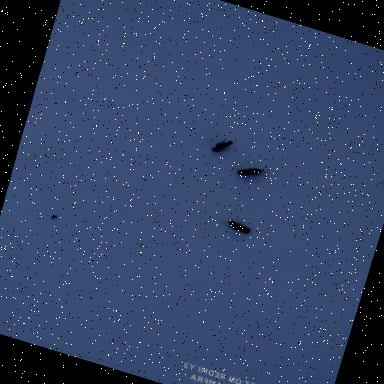pbw: (236, 158, 266, 184), (208, 134, 236, 158), (224, 216, 255, 237)
